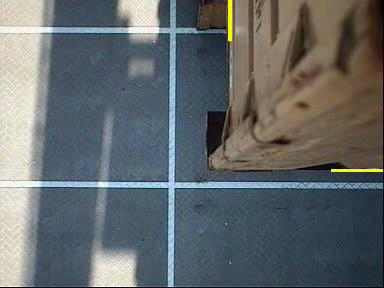groundmarker_2: (149, 217, 206, 266), (144, 83, 202, 131)
